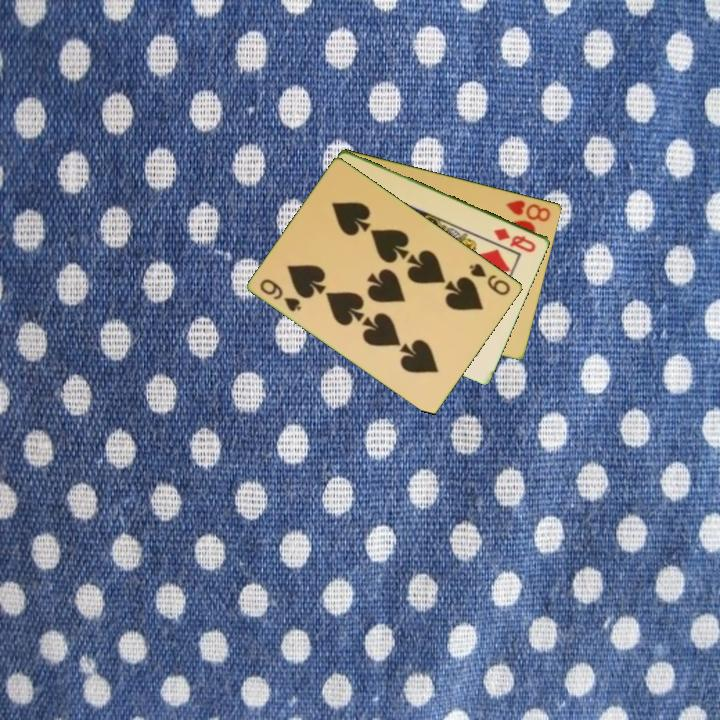8h: (502, 196, 554, 224)
9s: (256, 275, 305, 315), (466, 260, 514, 298)
Qd: (490, 224, 539, 255)
